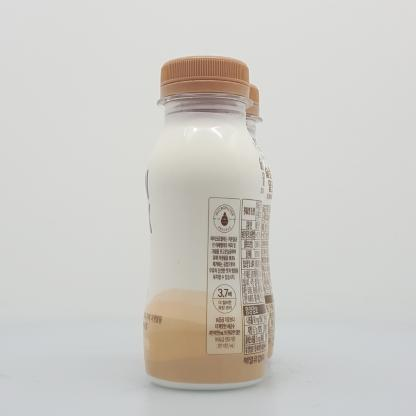----------180ML: (143, 55, 268, 391)
